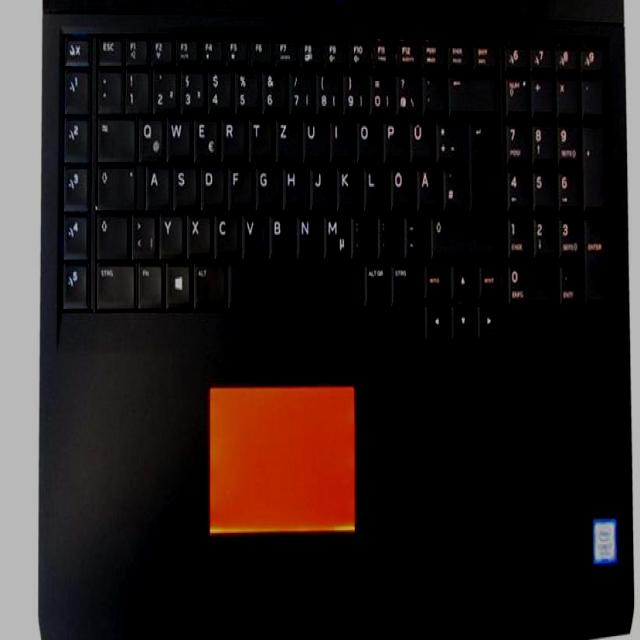0: (369, 69, 393, 113)
1: (123, 66, 151, 114)
2: (151, 67, 177, 113)
3: (179, 66, 205, 112)
4: (206, 66, 232, 112)
5: (234, 67, 258, 113)
6: (261, 67, 285, 113)
7: (288, 68, 312, 112)
8: (315, 68, 339, 112)
9: (341, 69, 365, 113)
a: (144, 163, 170, 209)
accent: (420, 70, 444, 116)
ae: (416, 165, 440, 209)
alt-left: (192, 260, 226, 306)
altgr-right: (364, 259, 388, 305)
b: (267, 211, 293, 257)
c: (212, 211, 238, 257)
caret: (96, 68, 120, 112)
comma: (350, 212, 374, 256)
d: (200, 162, 224, 208)
del: (446, 72, 496, 113)
e: (191, 113, 218, 163)
enter: (462, 117, 498, 209)
f: (227, 162, 251, 208)
g: (254, 162, 278, 208)
h: (281, 164, 307, 208)
hash: (442, 163, 466, 209)
i: (328, 116, 352, 160)
j: (308, 162, 332, 208)
k: (336, 162, 360, 208)
keyboard: (56, 19, 614, 345)
l: (362, 163, 386, 209)
less: (129, 211, 155, 257)
m: (323, 211, 347, 257)
minus: (403, 212, 427, 256)
n: (295, 211, 319, 257)
o: (353, 115, 379, 161)
oe: (389, 163, 413, 209)
p: (380, 117, 406, 163)
plus: (434, 117, 458, 161)
point: (376, 211, 400, 257)
q: (136, 115, 163, 161)
r: (220, 115, 246, 161)
s: (171, 163, 197, 209)
shift-left: (94, 212, 127, 258)
shift-lock: (95, 164, 141, 210)
shift-right: (429, 213, 499, 254)
space: (229, 260, 361, 302)
ss: (395, 69, 418, 115)
strg-left: (94, 262, 136, 308)
strg-right: (390, 260, 421, 306)
t: (247, 116, 271, 160)
tab: (96, 115, 133, 161)
u: (301, 115, 325, 161)
ue: (408, 117, 432, 161)
v: (241, 212, 265, 256)
w: (165, 115, 189, 161)
x: (186, 211, 210, 257)
y: (158, 213, 182, 259)
z: (274, 116, 298, 160)
